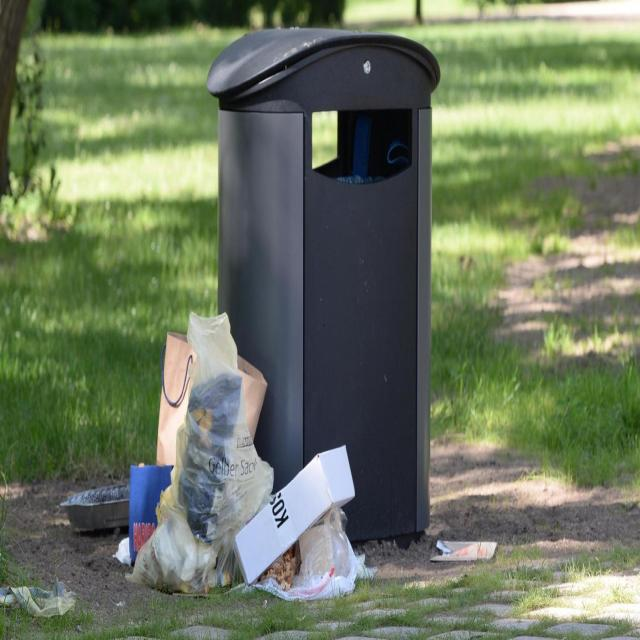garbage: (58, 288, 371, 600)
